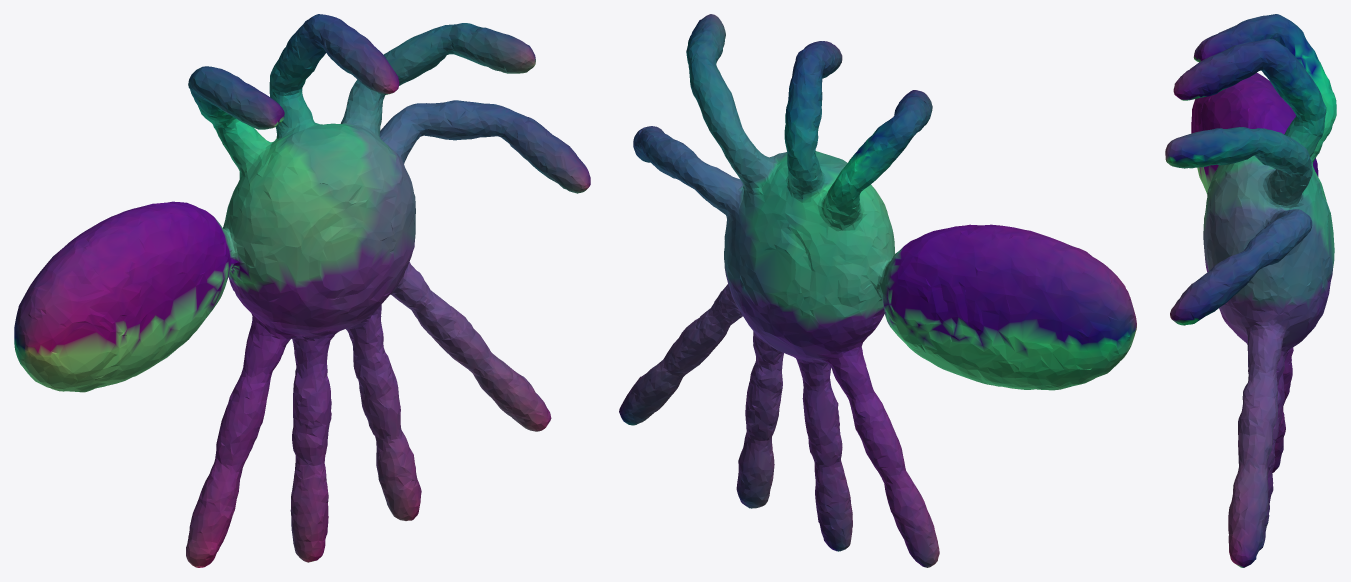
File: spider-10.off.obj
The picture shows the model from 3 angles, left to right: view 1: azimuth 30°, elevation 25°; view 2: azimuth 150°, elevation 25°; view 3: azimuth 270°, elevation 25°; orthographic projection. The views are drawn at different scales.
Size of the model in its own units: 1.53 by 1.43 by 0.4374.
